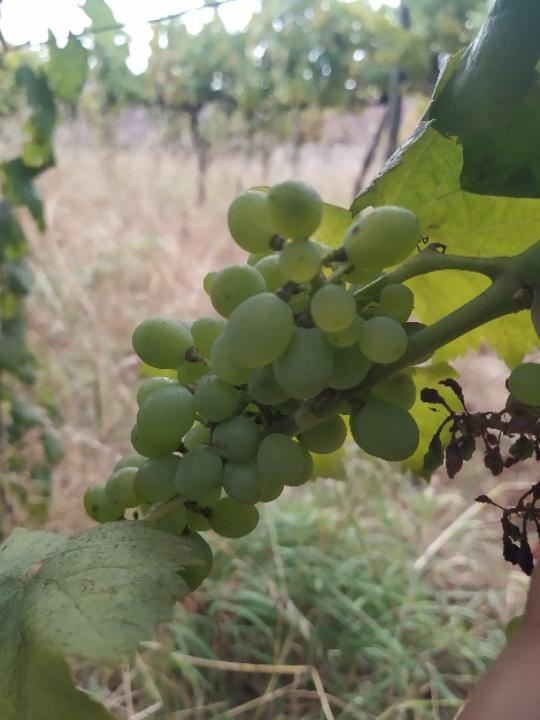grape: (80, 177, 425, 551)
